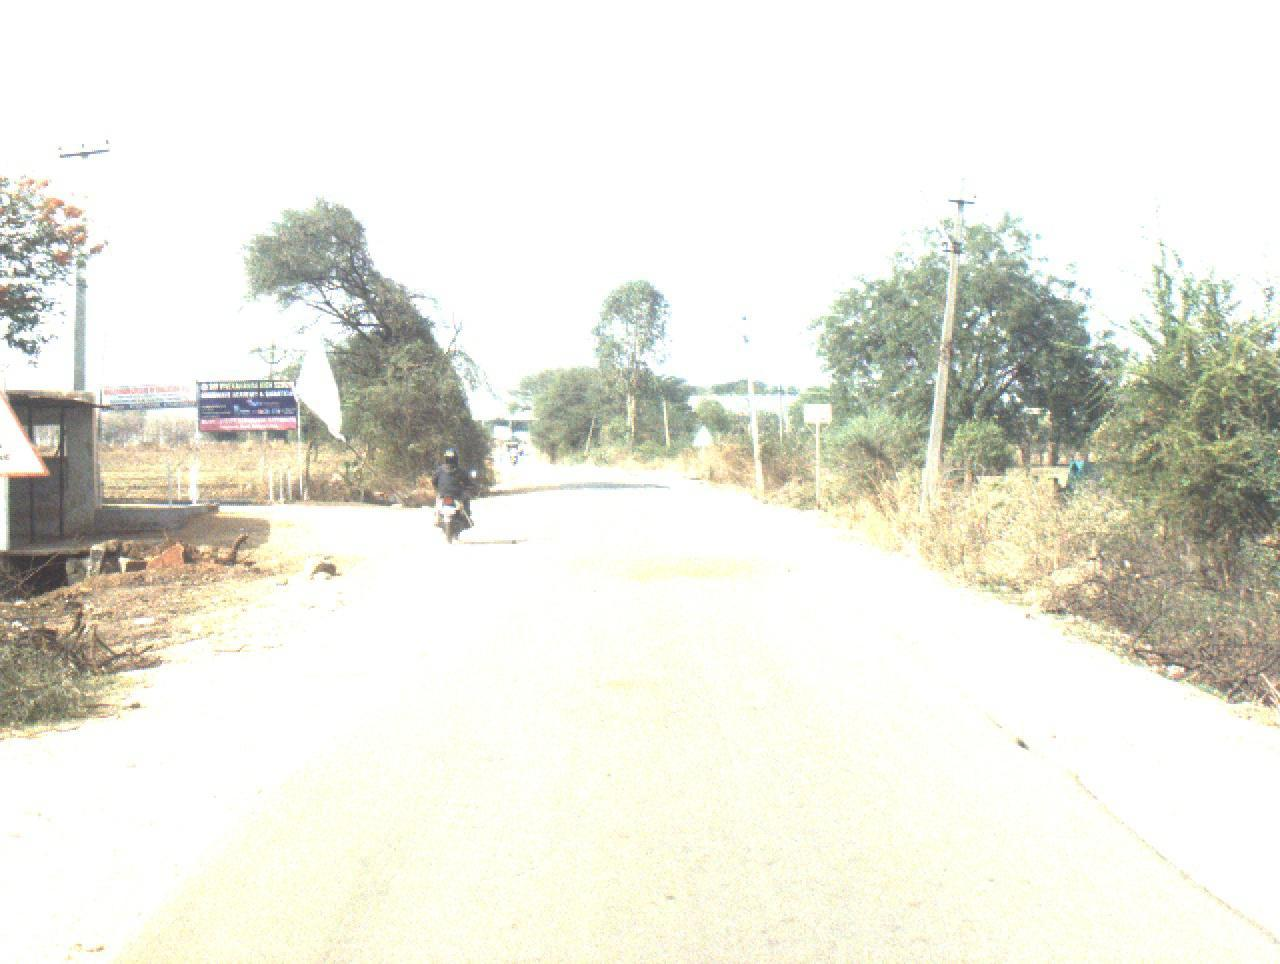off: (0, 0, 1280, 961)
